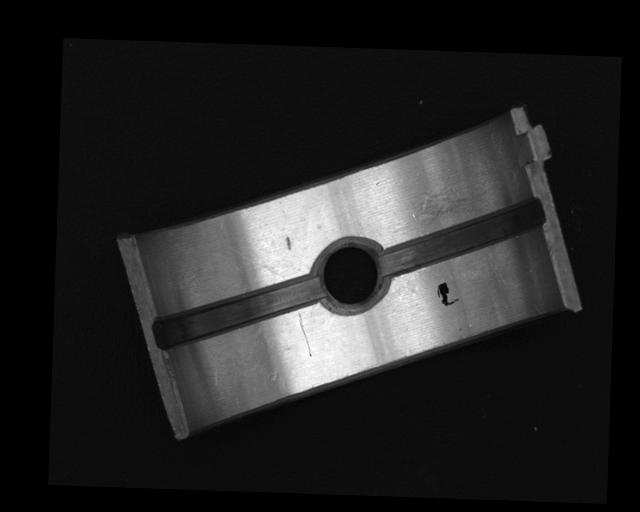blot: (436, 280, 460, 307)
bruise: (284, 235, 293, 252)
gap: (379, 193, 545, 281), (154, 269, 323, 352)
hole: (312, 239, 389, 315)
nick: (295, 312, 313, 357)
scratch: (393, 189, 495, 240)
